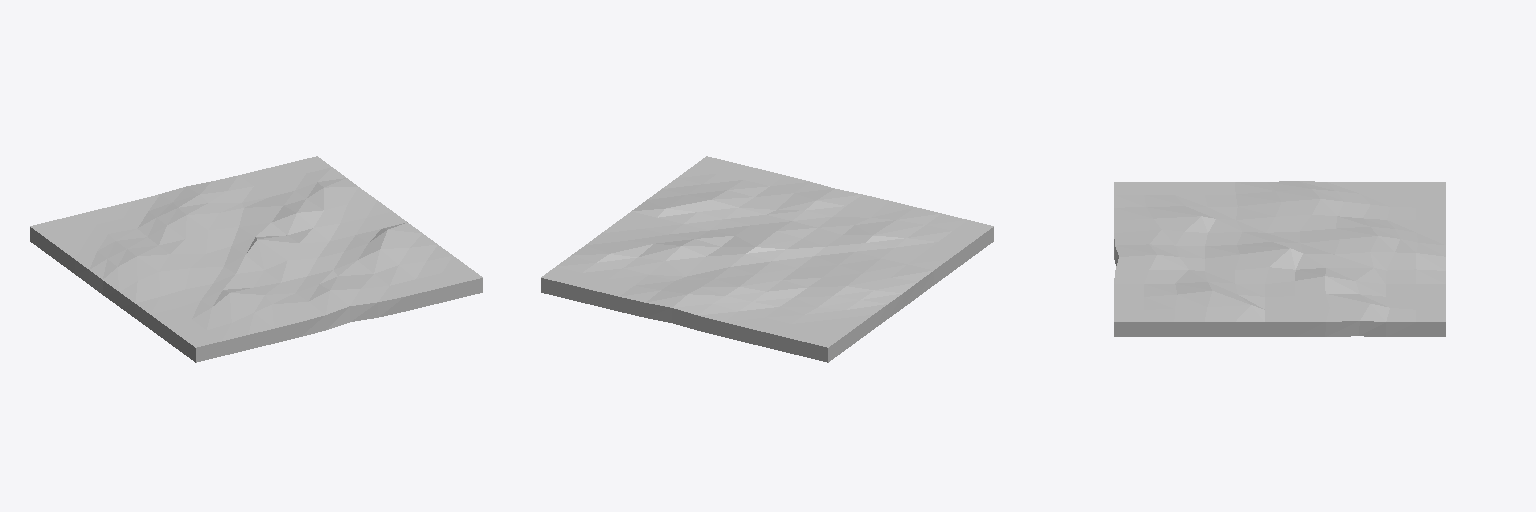
File: PrototypeWaterModel.obj
3 views of the same model, side by side, from view 1: azimuth 30°, elevation 25°; view 2: azimuth 150°, elevation 25°; view 3: azimuth 270°, elevation 25° (orthographic).
Parts seen in each view (by area): view 1: Plane; view 2: Plane; view 3: Plane.
Part boxes in pixels (x1,y1,x2,y2): Plane: (30,156,482,362); Plane: (541,156,993,362); Plane: (1114,181,1445,336).
Size of the model in its own units: 14.98 by 1.1 by 14.93.